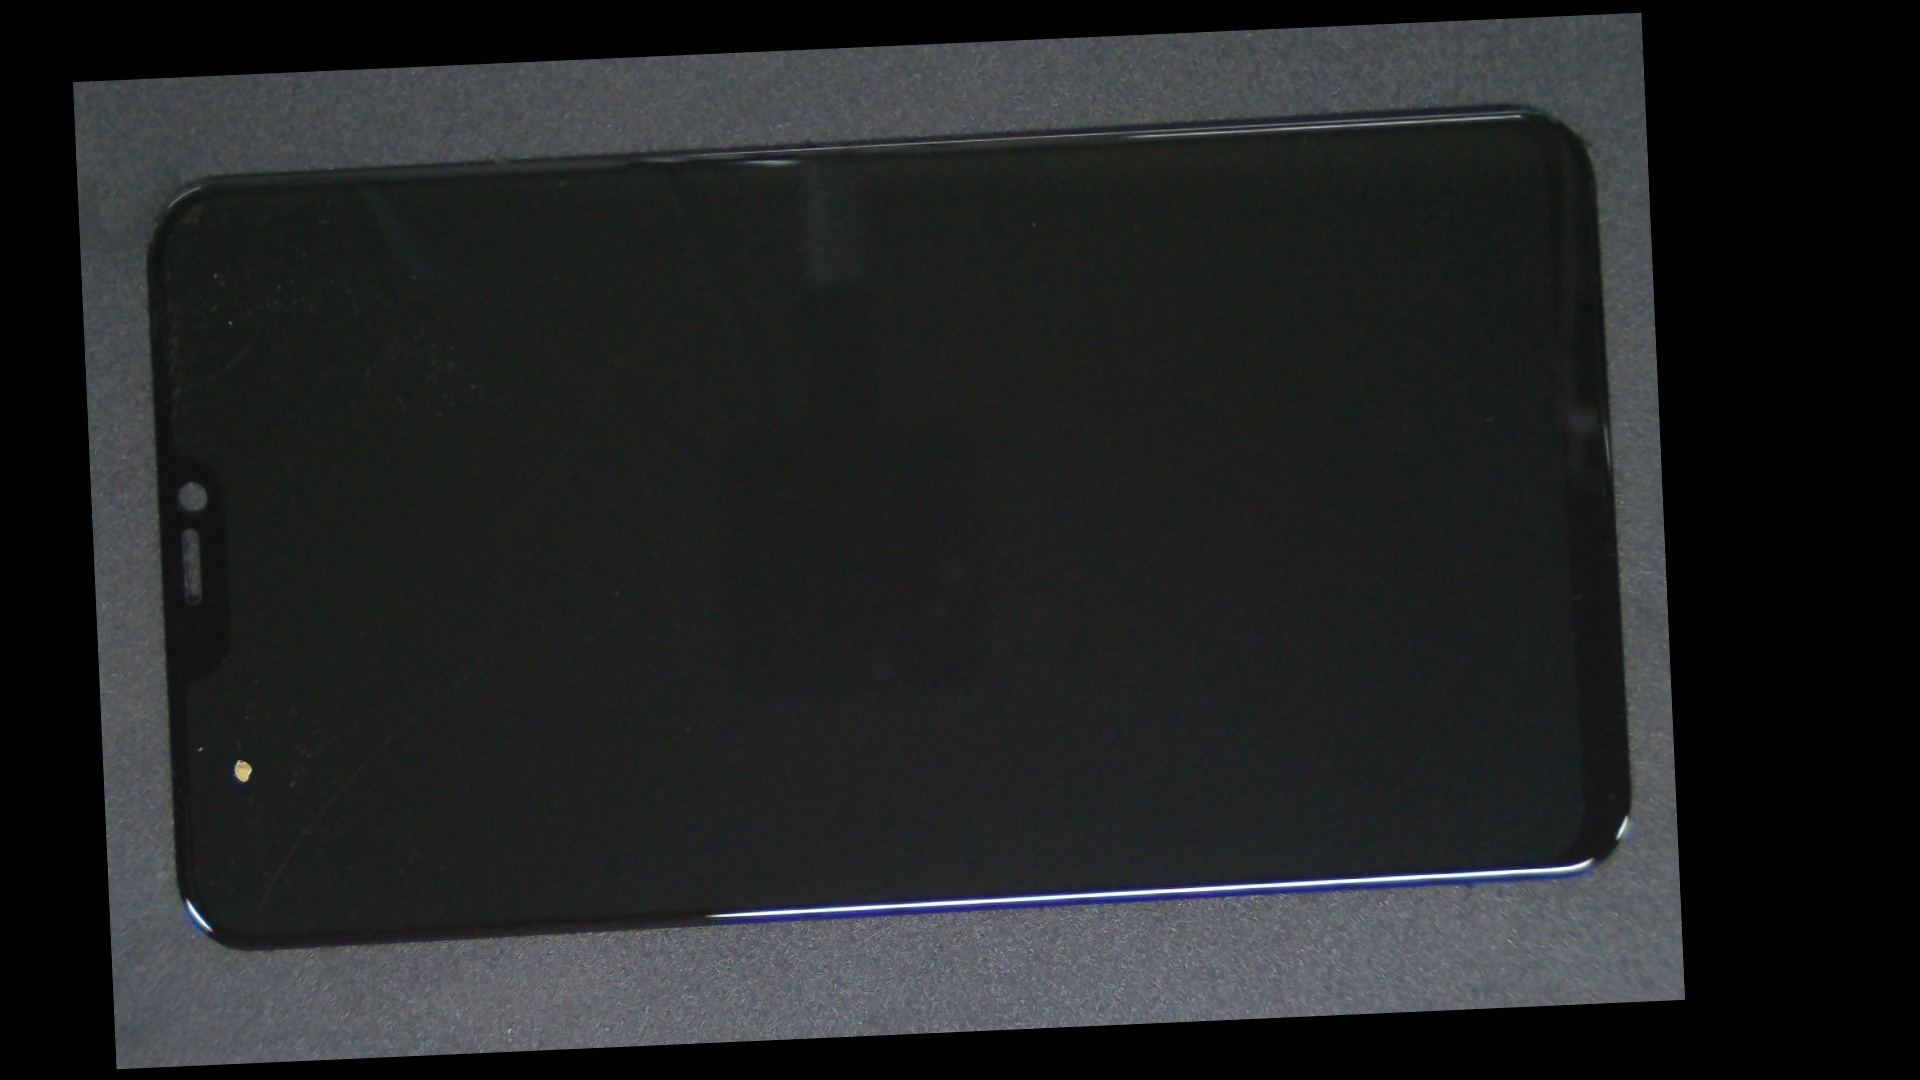oil: (157, 413, 319, 1067)
